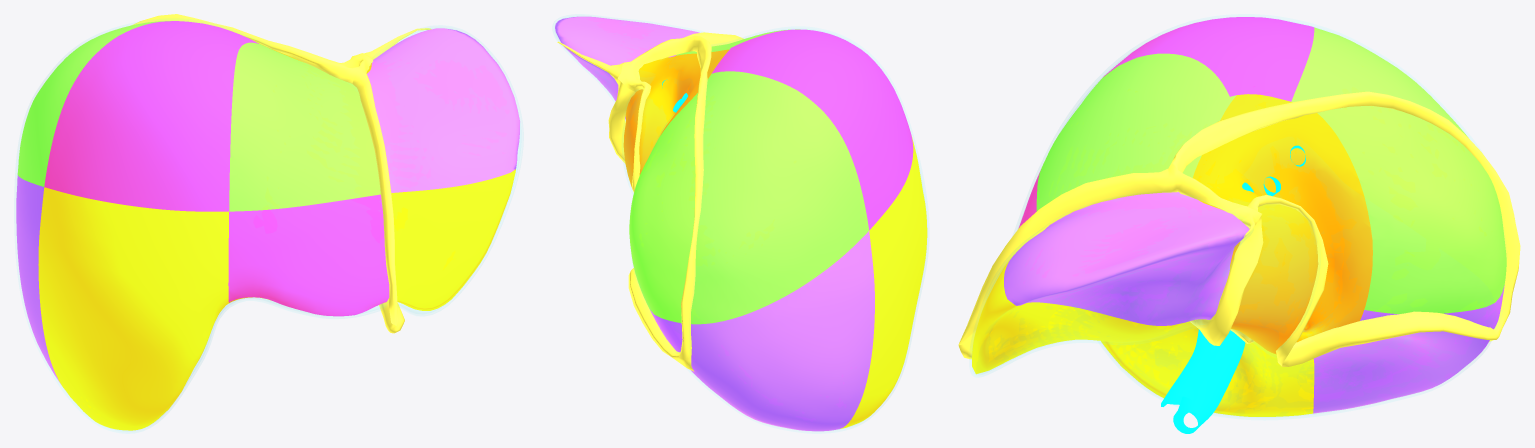
File: leber-male.glb
3 renders of one model, left to right at view 1: azimuth 30°, elevation 25°; view 2: azimuth 150°, elevation 25°; view 3: azimuth 270°, elevation 25°, orthographic. The views are drawn at different scales.
Parts seen in each view (by area): view 1: 0:11:VH_M_right_anteroinferior_segment, 0:12:VH_M_right_anterosuperior_segment, 0:8:VH_M_left_superiomedial_segment, 0:4:VH_M_left_posterolateral_segment, 0:7:VH_M_left_inferomedial_segment, 0:3:VH_M_left_anterolateral_segment, 0:14:VH_M_right_posterosuperior_segment, 0:13:VH_M_right_posteroinferior_segment, 0:22:VH_M_falciform_ligament, 0:21:VH_M_coronary_ligament_of_liver, 0:28:VH_M_liver_capsule; view 2: 0:14:VH_M_right_posterosuperior_segment, 0:13:VH_M_right_posteroinferior_segment, 0:12:VH_M_right_anterosuperior_segment, 0:11:VH_M_right_anteroinferior_segment, 0:21:VH_M_coronary_ligament_of_liver, 0:2:VH_M_caudate_lobe_of_liver, 0:4:VH_M_left_posterolateral_segment, 0:24:VH_M_ligamentum_venosum, 0:28:VH_M_liver_capsule, 0:22:VH_M_falciform_ligament, 0:26:VH_M_triangular_ligament_of_liver; view 3: 0:14:VH_M_right_posterosuperior_segment, 0:2:VH_M_caudate_lobe_of_liver, 0:4:VH_M_left_posterolateral_segment, 0:8:VH_M_left_superiomedial_segment, 0:21:VH_M_coronary_ligament_of_liver, 0:13:VH_M_right_posteroinferior_segment, 0:12:VH_M_right_anterosuperior_segment, 0:11:VH_M_right_anteroinferior_segment, 0:3:VH_M_left_anterolateral_segment, 0:22:VH_M_falciform_ligament, 0:24:VH_M_ligamentum_venosum, 1:5:VH_M_portal_vein (+2 smaller).
Part boxes in pixels (box(x1,y1,x2,y2)): 0:11:VH_M_right_anteroinferior_segment: box(38, 187, 228, 430); 0:12:VH_M_right_anterosuperior_segment: box(44, 21, 258, 211); 0:8:VH_M_left_superiomedial_segment: box(229, 42, 380, 211); 0:4:VH_M_left_posterolateral_segment: box(367, 28, 519, 192); 0:7:VH_M_left_inferomedial_segment: box(228, 194, 389, 316); 0:3:VH_M_left_anterolateral_segment: box(391, 169, 515, 310); 0:14:VH_M_right_posterosuperior_segment: box(17, 21, 170, 186); 0:13:VH_M_right_posteroinferior_segment: box(16, 175, 60, 383); 0:22:VH_M_falciform_ligament: box(352, 71, 397, 325); 0:21:VH_M_coronary_ligament_of_liver: box(132, 14, 372, 83); 0:28:VH_M_liver_capsule: box(16, 20, 521, 431); 0:14:VH_M_right_posterosuperior_segment: box(629, 71, 868, 324); 0:13:VH_M_right_posteroinferior_segment: box(650, 231, 874, 431); 0:12:VH_M_right_anterosuperior_segment: box(712, 29, 913, 230); 0:11:VH_M_right_anteroinferior_segment: box(840, 136, 927, 428); 0:21:VH_M_coronary_ligament_of_liver: box(617, 35, 711, 371); 0:2:VH_M_caudate_lobe_of_liver: box(623, 49, 728, 189); 0:4:VH_M_left_posterolateral_segment: box(555, 16, 699, 119); 0:24:VH_M_ligamentum_venosum: box(608, 79, 635, 163); 0:28:VH_M_liver_capsule: box(554, 15, 927, 431); 0:22:VH_M_falciform_ligament: box(684, 32, 743, 46); 0:26:VH_M_triangular_ligament_of_liver: box(557, 41, 623, 83); 0:14:VH_M_right_posterosuperior_segment: box(1291, 27, 1506, 313); 0:2:VH_M_caudate_lobe_of_liver: box(1193, 94, 1372, 354); 0:4:VH_M_left_posterolateral_segment: box(1004, 192, 1249, 325); 0:8:VH_M_left_superiomedial_segment: box(1036, 53, 1236, 211); 0:21:VH_M_coronary_ligament_of_liver: box(1168, 91, 1520, 366); 0:13:VH_M_right_posteroinferior_segment: box(1313, 285, 1504, 413); 0:12:VH_M_right_anterosuperior_segment: box(1103, 17, 1314, 101); 0:11:VH_M_right_anteroinferior_segment: box(1101, 322, 1314, 416); 0:3:VH_M_left_anterolateral_segment: box(972, 259, 1192, 374); 0:22:VH_M_falciform_ligament: box(958, 169, 1173, 344); 0:24:VH_M_ligamentum_venosum: box(1195, 216, 1263, 345); 1:5:VH_M_portal_vein: box(1173, 330, 1245, 433).
Bounding box in the file's own units: 0.1914 × 0.1746 × 0.2018.
